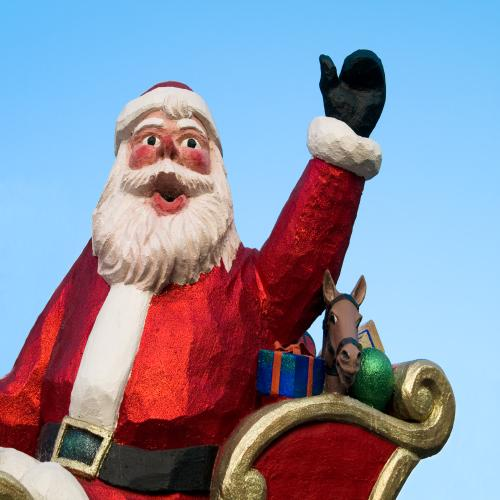Santa: (3, 49, 389, 500)
